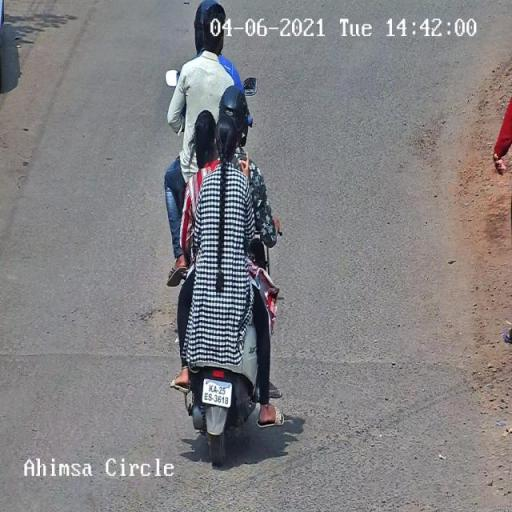tripple riding: (177, 69, 280, 307)
